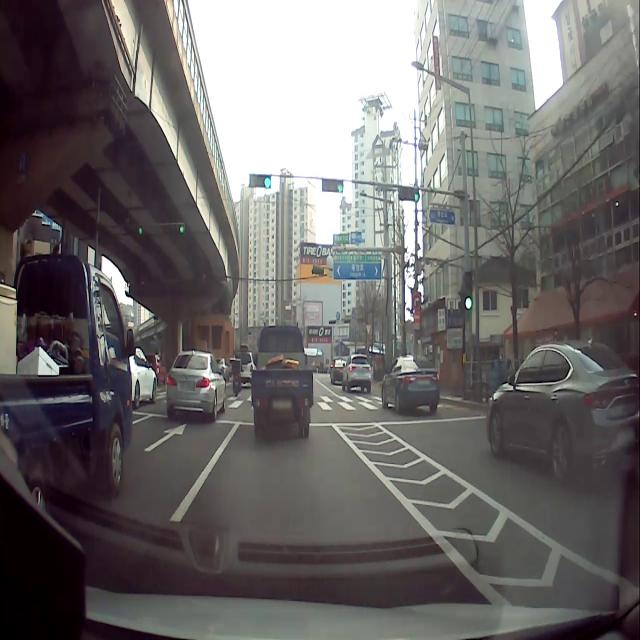Green Light: (136, 223, 144, 237), (263, 176, 271, 188), (336, 180, 343, 193), (179, 223, 186, 236), (414, 190, 419, 202)
